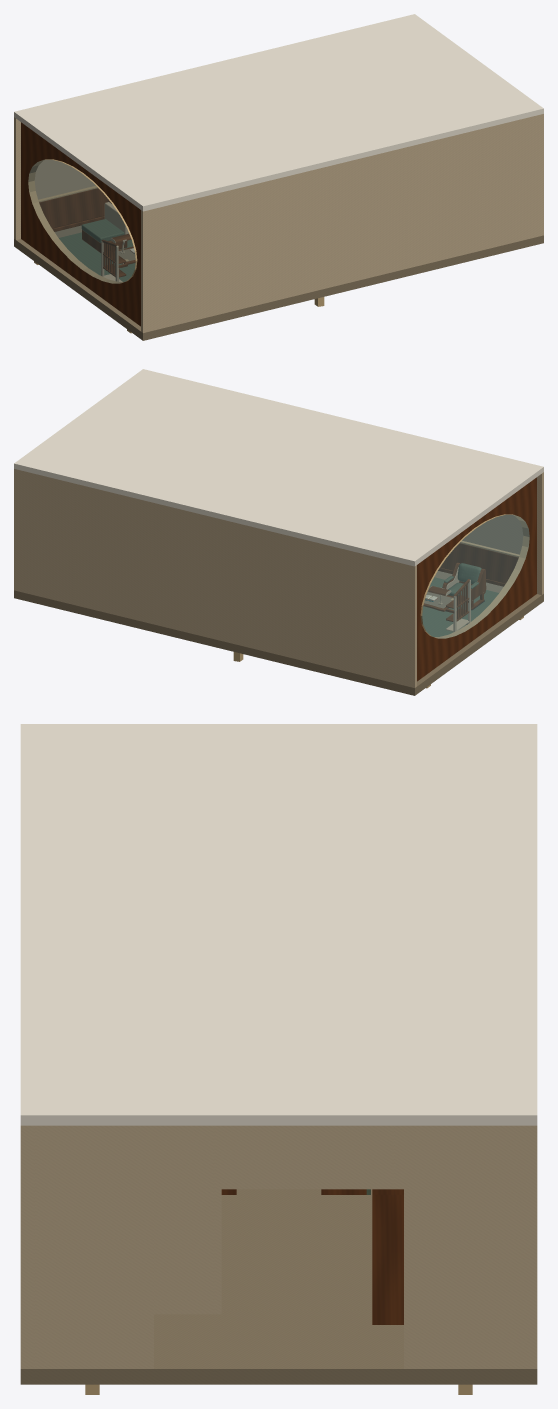
Rendered from NG518_AtriumInterior_r001.glb.
The picture shows the model from 3 angles, top to bottom: view 1: azimuth 30°, elevation 25°; view 2: azimuth 150°, elevation 25°; view 3: azimuth 270°, elevation 25°; orthographic projection. The views are drawn at different scales.
Visible parts, largest first — view 1: NG518_RuntimeBatch_001, NG518_OvalAtriumGlass, NG518_RuntimeBatch_002, NG518_RoomFloor, NGA_518_South_LowPanel, NG518_RuntimeBatch_004, NGA_518_OutlookFloorInlay, NGA_518_ViewSeat_Cushion, NG518_RuntimeBatch_007; view 2: NG518_RuntimeBatch_001, NG518_OvalAtriumGlass, NG518_RuntimeBatch_002, NG518_RoomFloor, NGA_518_North_LowPanel, NG518_RuntimeBatch_004, NGA_518_OutlookFloorInlay, NG518_RuntimeBatch_007, NG518_RuntimeBatch_033, NG518_RuntimeBatch_028; view 3: NG518_RuntimeBatch_001, NG518_RoomFloor, NG518_RuntimeBatch_002.
Part boxes in pixels (x1,y1,x2,y2): NG518_RuntimeBatch_001: (14, 14, 543, 332); NG518_OvalAtriumGlass: (28, 160, 135, 283); NG518_RuntimeBatch_002: (21, 122, 140, 326); NG518_RoomFloor: (14, 225, 543, 340); NGA_518_South_LowPanel: (39, 188, 111, 228); NG518_RuntimeBatch_004: (28, 159, 324, 333); NGA_518_OutlookFloorInlay: (59, 232, 135, 281); NGA_518_ViewSeat_Cushion: (81, 219, 124, 242); NG518_RuntimeBatch_007: (101, 239, 135, 277); NG518_RuntimeBatch_001: (14, 369, 543, 687); NG518_OvalAtriumGlass: (422, 515, 529, 638); NG518_RuntimeBatch_002: (417, 477, 536, 681); NG518_RoomFloor: (14, 571, 543, 695); NGA_518_North_LowPanel: (440, 543, 518, 583); NG518_RuntimeBatch_004: (233, 514, 529, 688); NGA_518_OutlookFloorInlay: (422, 577, 498, 636); NG518_RuntimeBatch_007: (423, 579, 469, 621); NG518_RuntimeBatch_033: (448, 563, 481, 595); NG518_RuntimeBatch_028: (442, 563, 486, 609); NG518_RuntimeBatch_001: (20, 724, 537, 1368); NG518_RoomFloor: (20, 1189, 537, 1384); NG518_RuntimeBatch_002: (221, 1189, 403, 1324).
Size of the model in its own units: 12.9 by 4.91 by 7.2.
36 materials, 20 textured.
